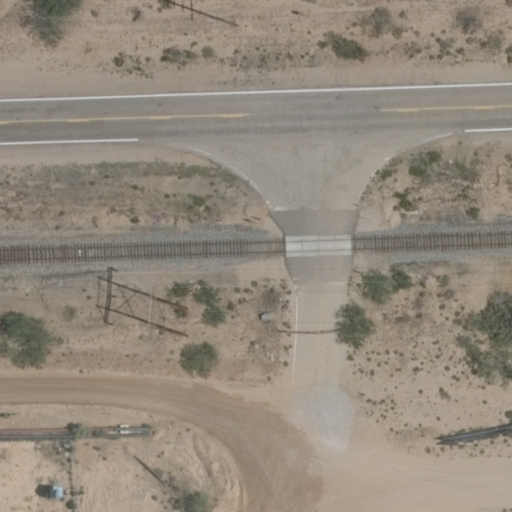DT: (166, 1, 230, 26)
TT: (95, 267, 185, 337)
